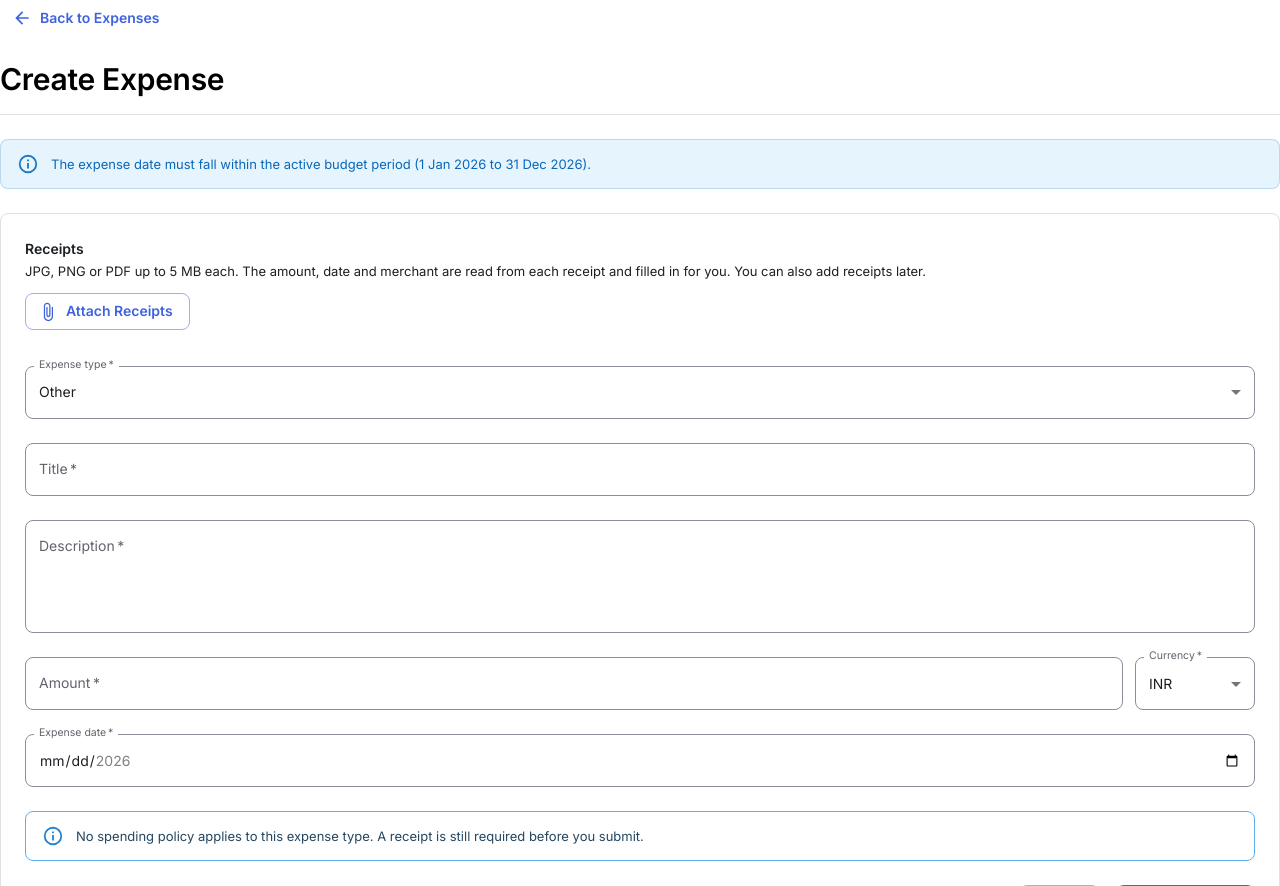
Test: CreateExpensePage › asks for confirmation and creates nothing when cancelled
Expected: the text "must fall within the active budget period" is shown, [51,156,419,172]
Type "Team lunch" into the field labelled "Title *" at x=640, y=469, box [25,443,1255,496]
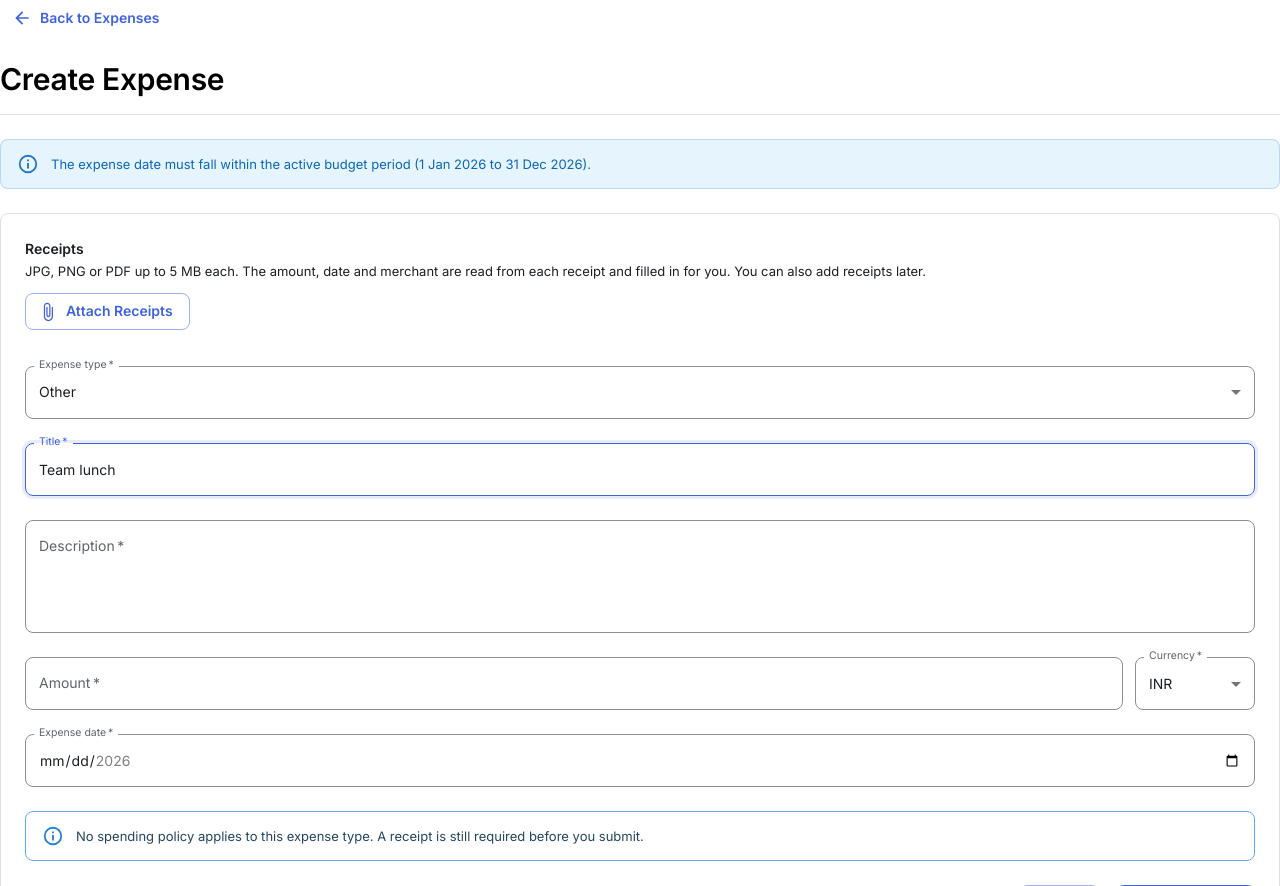
Type "Lunch with the project team" into the text box labelled "Description" at x=640, y=576, box [39,536,1241,616]
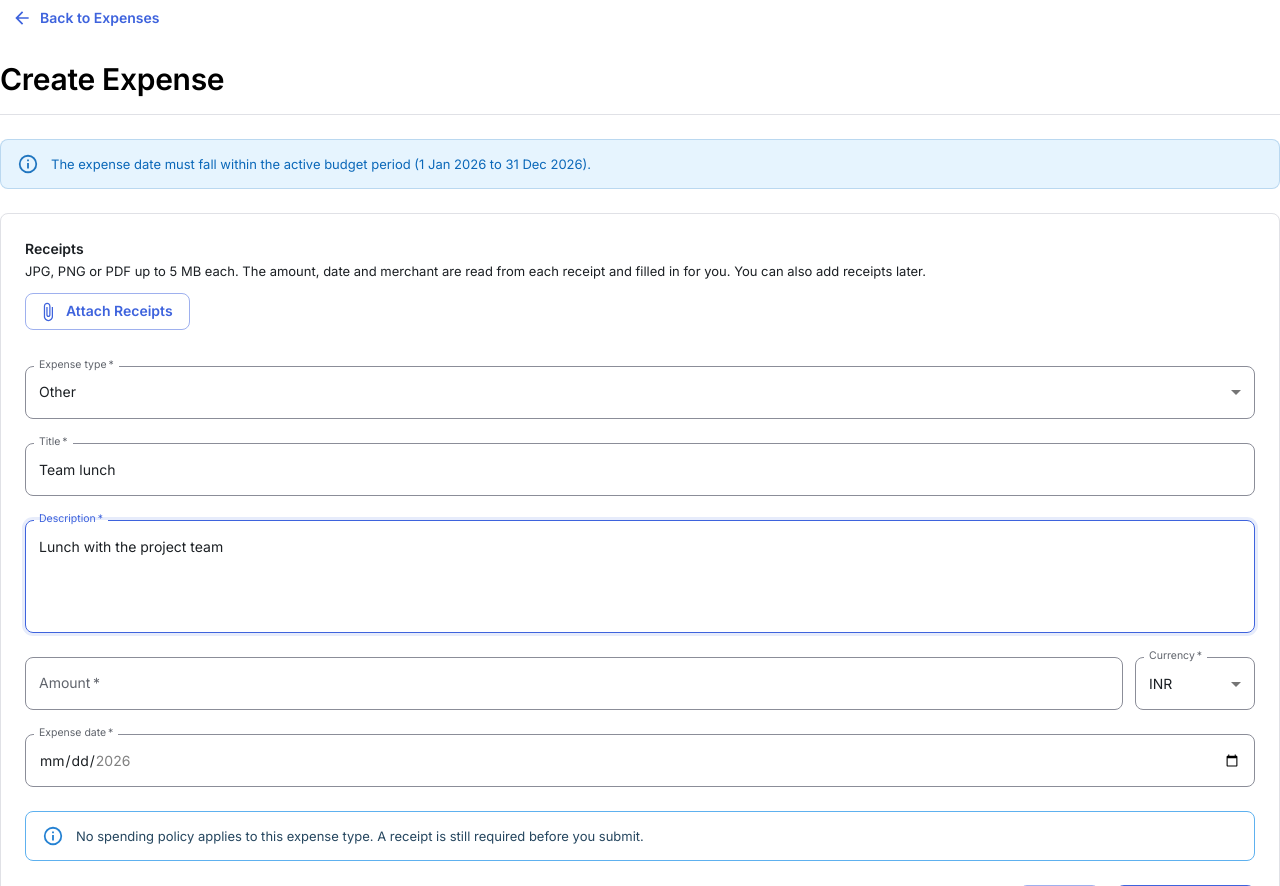
Type "1200" into the number field labelled "Amount" at x=574, y=684, box [25,657,1123,710]
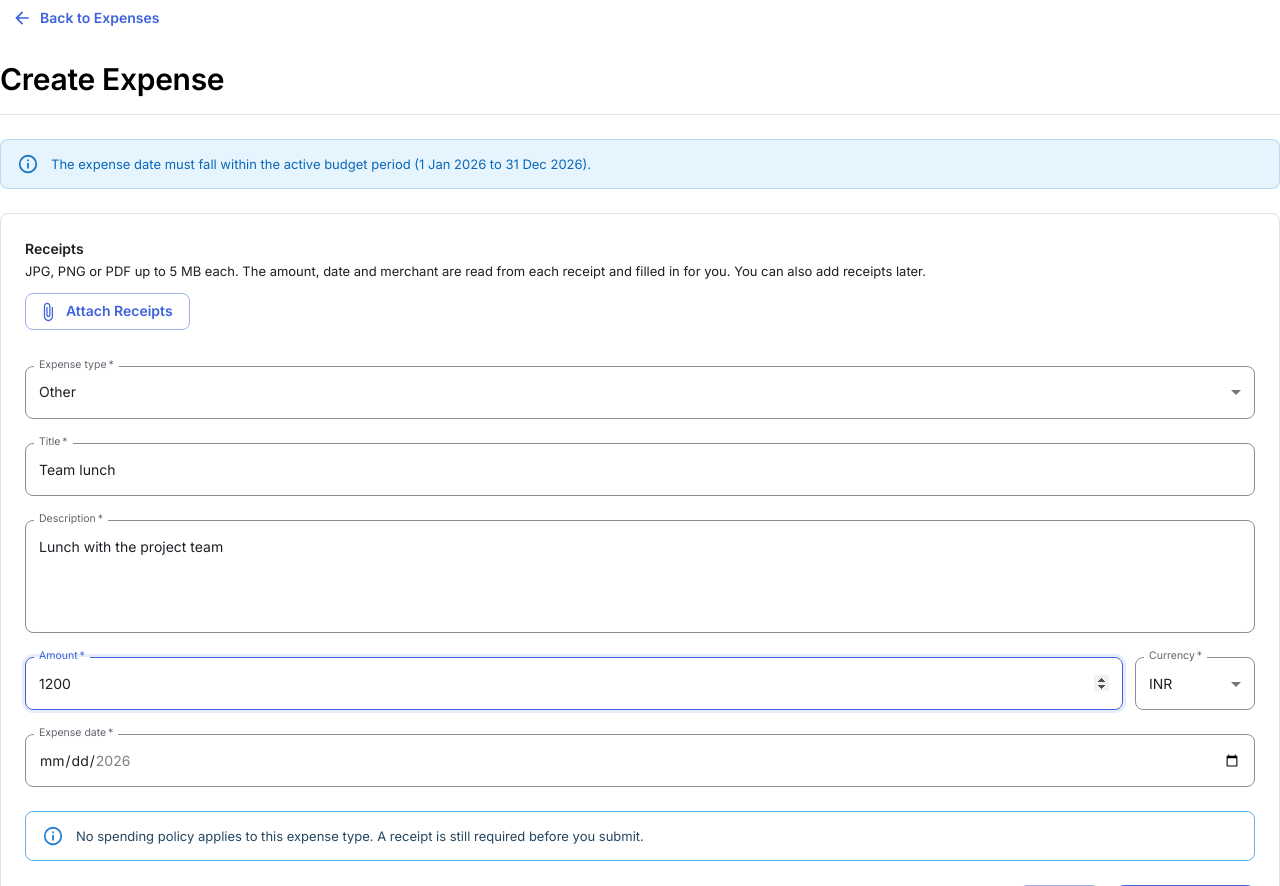
Type "2026-10-10" into the date field labelled "Expense date *" at x=640, y=761, box [25,734,1255,787]
(page scrolled)
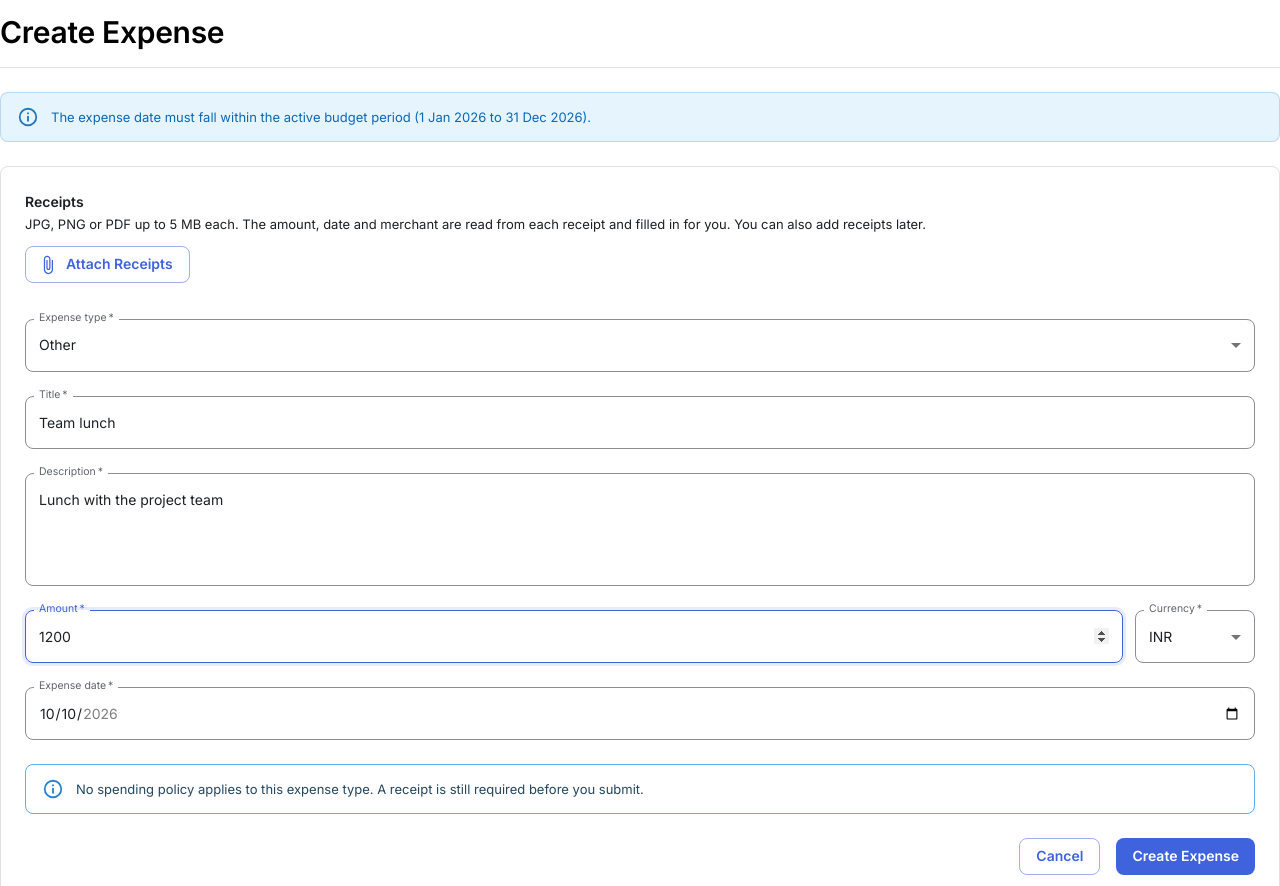
Click the button "Create Expense" at x=1186, y=857, box [1116,838,1255,875]
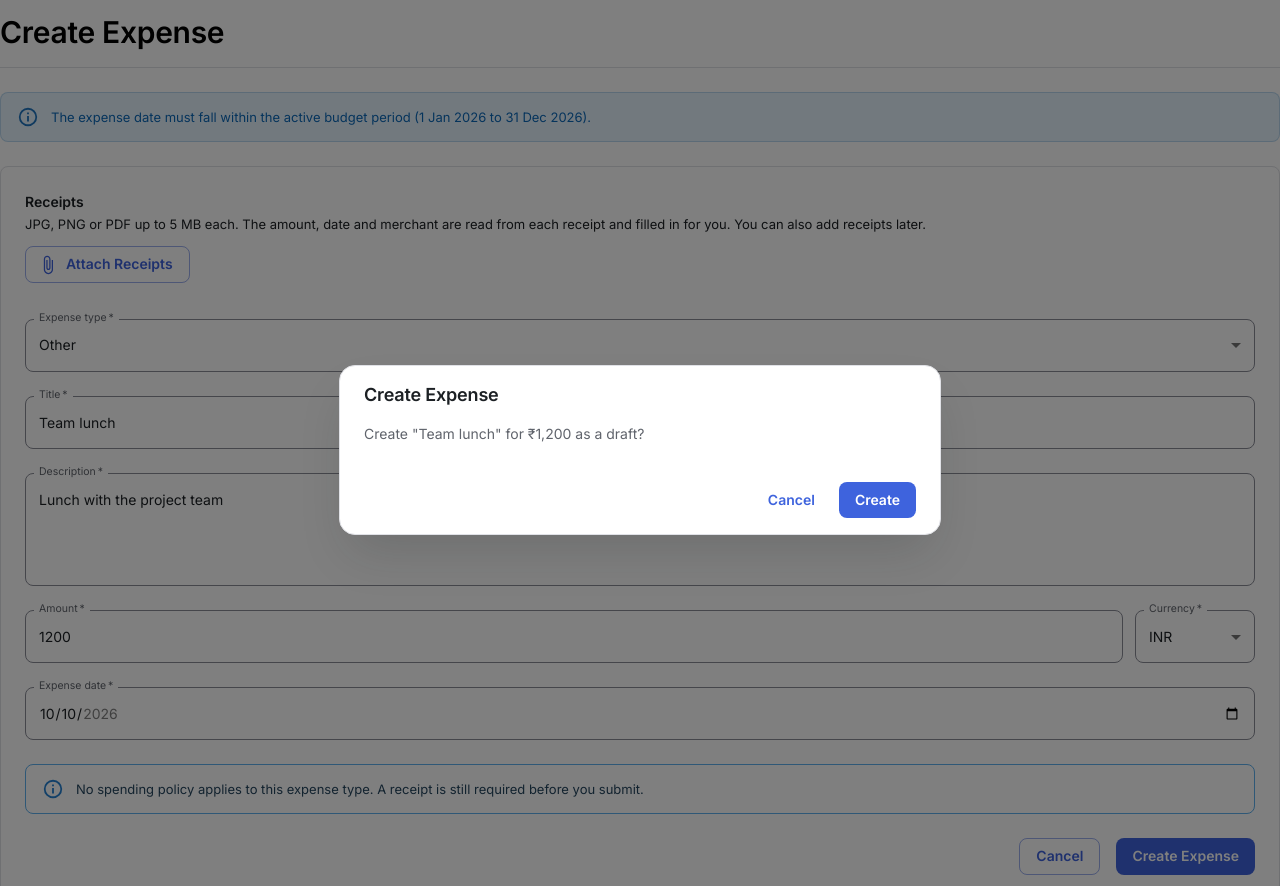
Result: the dialog "Create Expense" shows "Create \"Team lunch\" for ₹1,200 as a draft?" at [364,425,644,442]
Click the button "Cancel" at x=791, y=500, box [752,482,831,518]
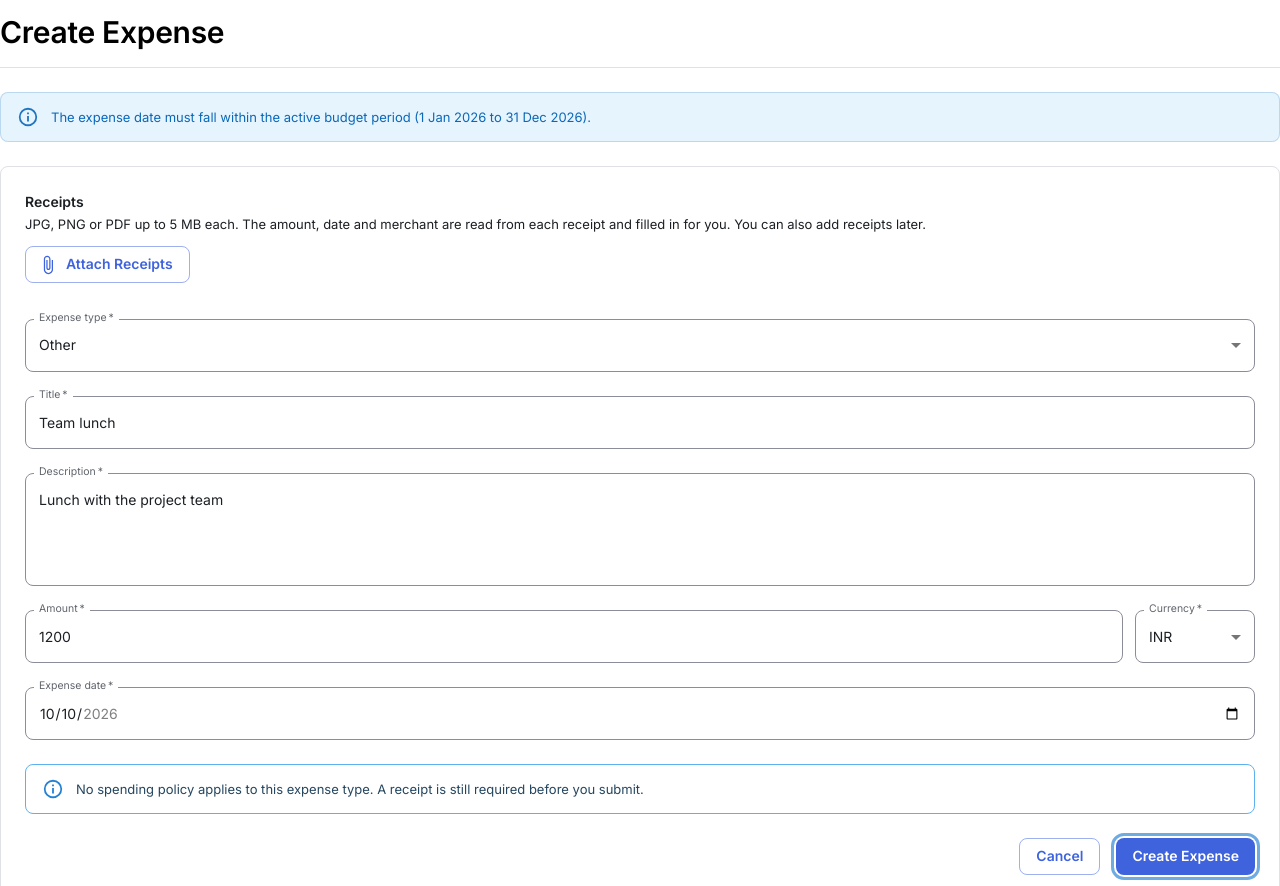
Result: the dialog is gone
